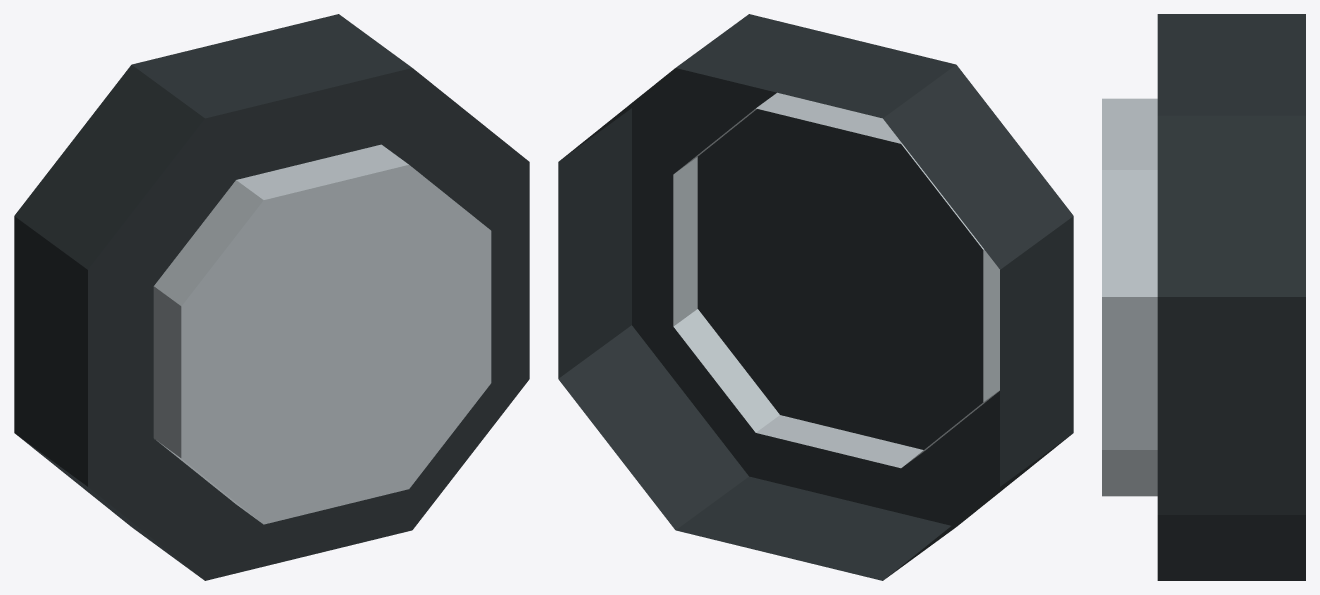
Rendered from Ceiling Light 01 Dim.FBX.
3 renders of one model, left to right at view 1: azimuth 30°, elevation 25°; view 2: azimuth 150°, elevation 25°; view 3: azimuth 270°, elevation 25°, orthographic.
Visible parts, largest first — view 1: Ceiling Light 01 Dim; view 2: Ceiling Light 01 Dim; view 3: Ceiling Light 01 Dim.
Part boxes in pixels (left/top/right/bottom): Ceiling Light 01 Dim: left=14, top=14, right=529, bottom=580; Ceiling Light 01 Dim: left=558, top=14, right=1073, bottom=580; Ceiling Light 01 Dim: left=1102, top=14, right=1305, bottom=580.
Bounding box in the file's own units: 31.05 × 31.05 × 12.33.
Materials: 1 (1 with a texture image).
